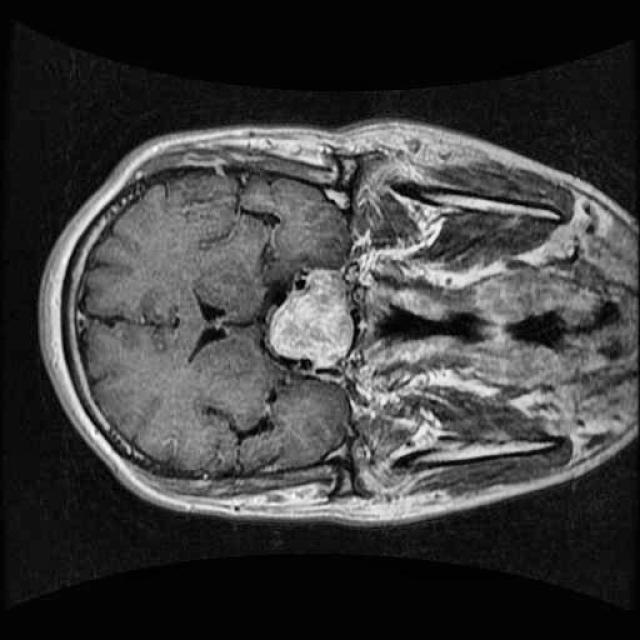Tumor: (261, 254, 366, 388)
